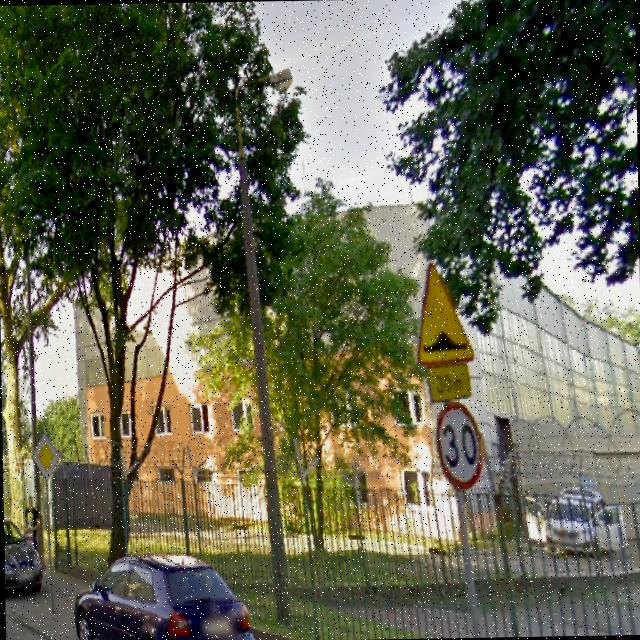Droga z pierwszenstwem: (32, 429, 59, 478)
